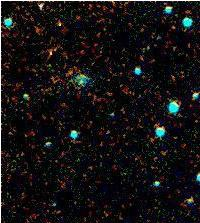star: (45, 12, 75, 42)
